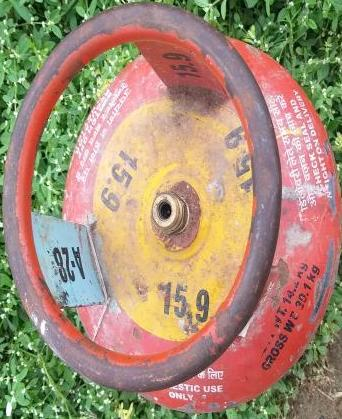cylinder: (1, 0, 342, 419)
